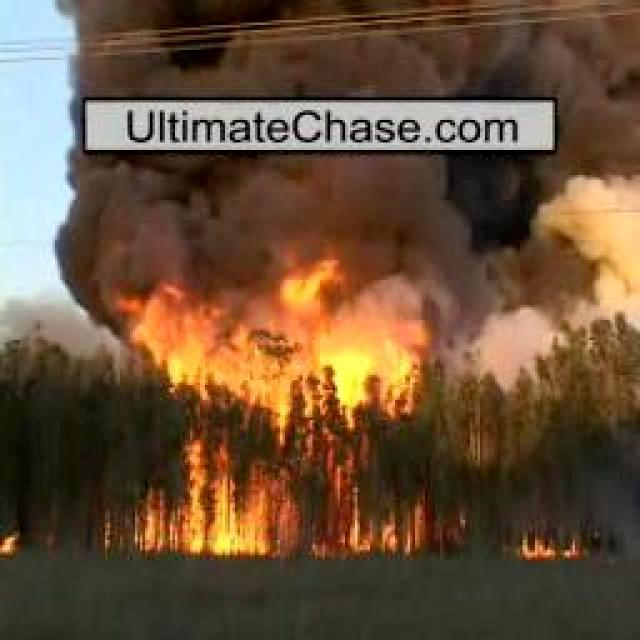fire: (120, 291, 432, 551), (516, 532, 578, 560), (1, 534, 23, 554)
